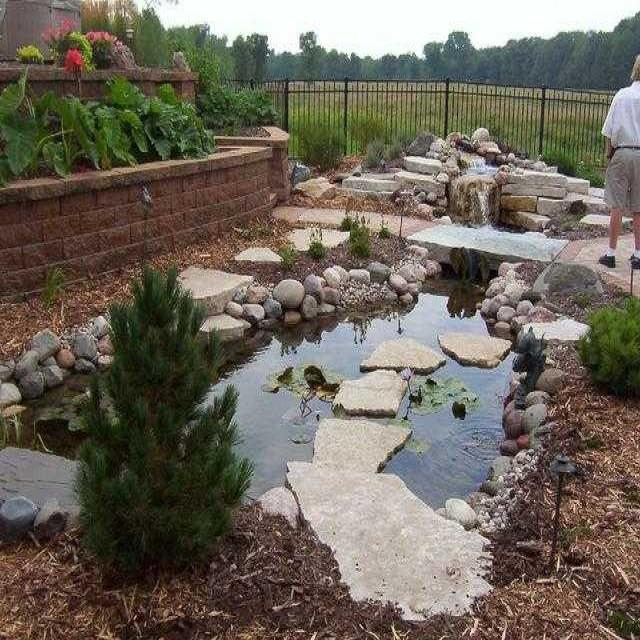Ponds: (1, 246, 572, 613)
